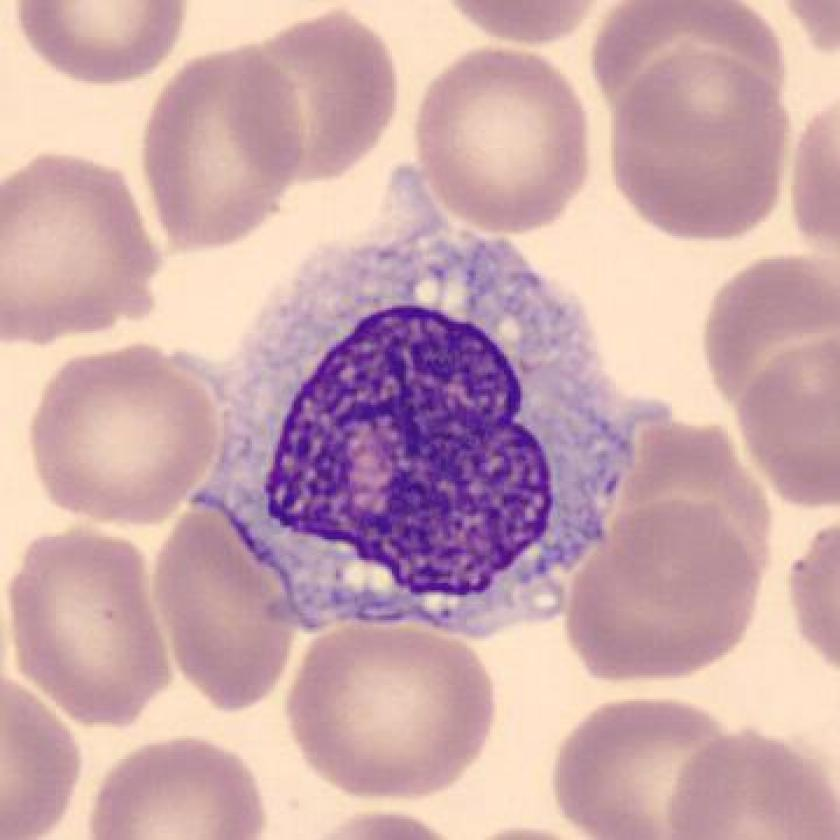monocyte: (183, 161, 678, 654)
